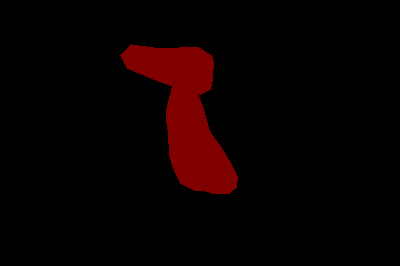fire: (120, 44, 237, 193)
